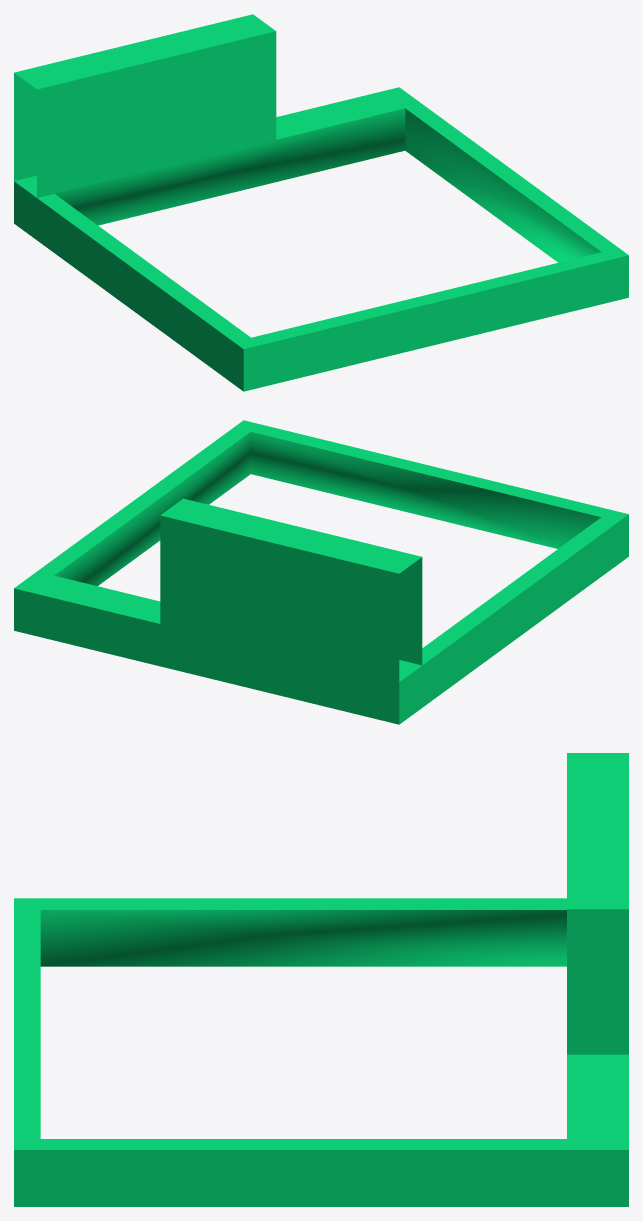
File: Stairs_Rest.fbx
3 views of the same model, one above another, from view 1: azimuth 30°, elevation 25°; view 2: azimuth 150°, elevation 25°; view 3: azimuth 270°, elevation 25° (orthographic). The views are drawn at different scales.
Parts seen in each view (by area): view 1: Cube.232; view 2: Cube.232; view 3: Cube.232.
Boxes of the visible parts, x1,y1,x2,y2 form: Cube.232: (14, 14, 628, 391); Cube.232: (14, 420, 628, 724); Cube.232: (14, 753, 628, 1206).
Bounding box in the file's own units: 310 × 116 × 320.
